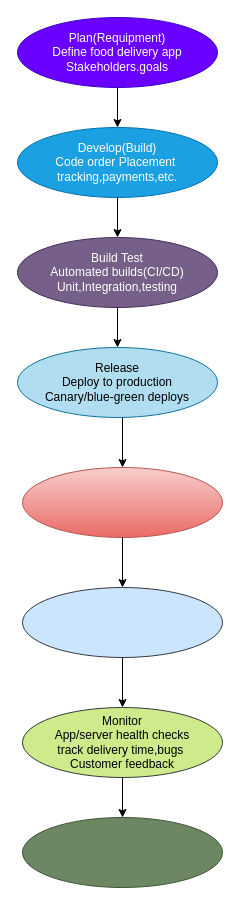
This 240x905 diagram has some shape labels left out. The centre of each missing label's shape, as x and y in pixels:
Deploy(Delivery) Customer places order Restaurant accepts,delivery boy assigned: point 122,502
Feed back(loop) Use feedback for updates improves app and delivery: point 122,852
Operate(Execution) Real-time order tracking Notification system Map&ETA: point 122,622
